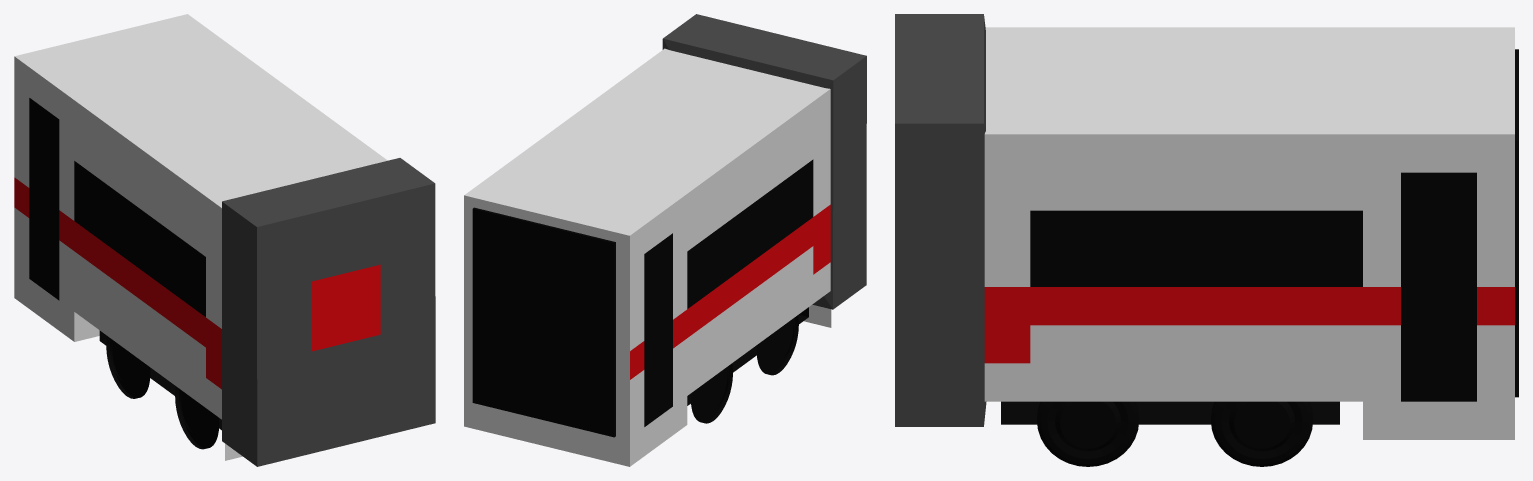
Rendered from bulletBody1.fbx.
3 renders of one model, left to right at view 1: azimuth 30°, elevation 25°; view 2: azimuth 150°, elevation 25°; view 3: azimuth 270°, elevation 25°, orthographic. The views are drawn at different scales.
Visible parts, largest first — view 1: Würfel; view 2: Würfel, Cube; view 3: Würfel, Cube.
Boxes of the visible parts, x1,y1,x2,y2 form: Würfel: (14, 14, 435, 466); Würfel: (464, 14, 866, 466); Cube: (472, 207, 615, 437); Würfel: (895, 14, 1514, 466); Cube: (1515, 49, 1518, 397).
Bounding box in the file's own units: 162 × 242 × 387.
